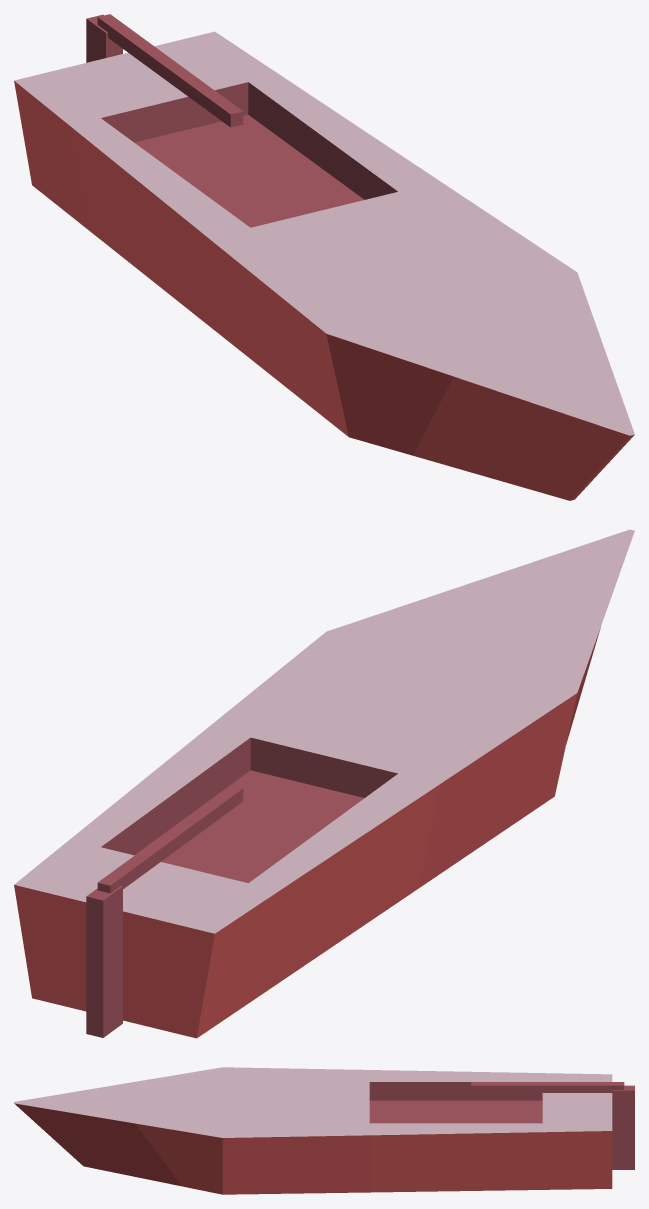
File: hull.glb
3 views of the same model, one above another, from view 1: azimuth 30°, elevation 25°; view 2: azimuth 150°, elevation 25°; view 3: azimuth 270°, elevation 25° (orthographic). The views are drawn at different scales.
Parts seen in each view (by area): view 1: Hull; view 2: Hull; view 3: Hull.
Part boxes in pixels (x1,y1,x2,y2): Hull: [14, 14, 634, 500]; Hull: [14, 529, 634, 1038]; Hull: [14, 1067, 634, 1194].
Bounding box in the file's own units: 1.04 × 0.5719 × 3.84.
